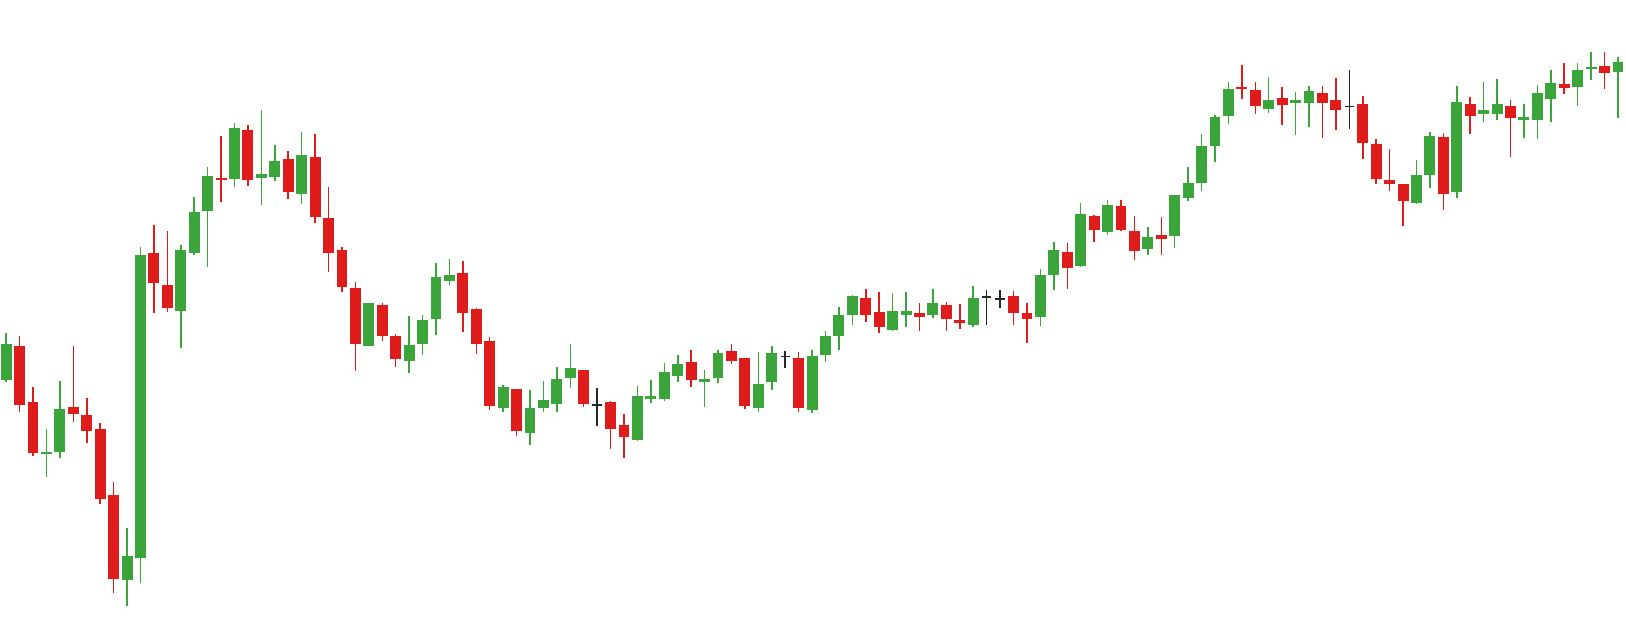buy: (509, 378, 645, 463)
